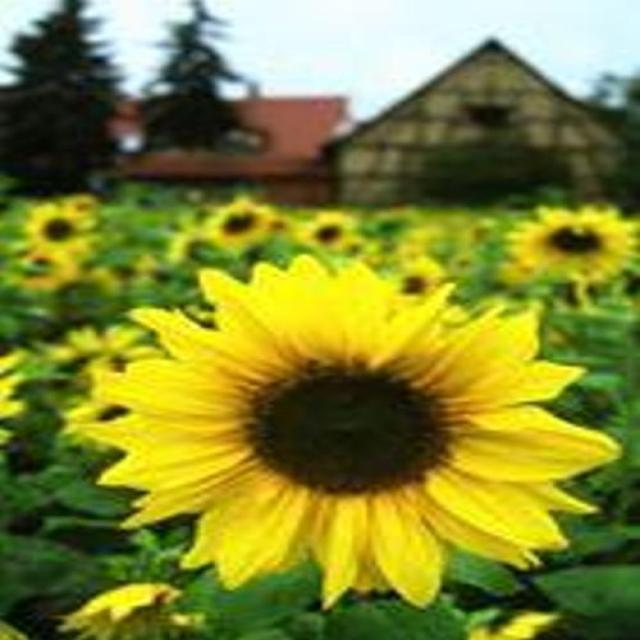sunflower: (499, 203, 640, 283), (52, 584, 182, 640), (199, 194, 280, 256), (287, 208, 364, 260), (68, 396, 146, 446), (23, 203, 102, 250), (466, 610, 566, 640), (382, 264, 460, 300), (89, 350, 146, 378), (17, 245, 74, 271), (58, 193, 102, 219), (15, 272, 84, 288), (104, 265, 138, 280)
